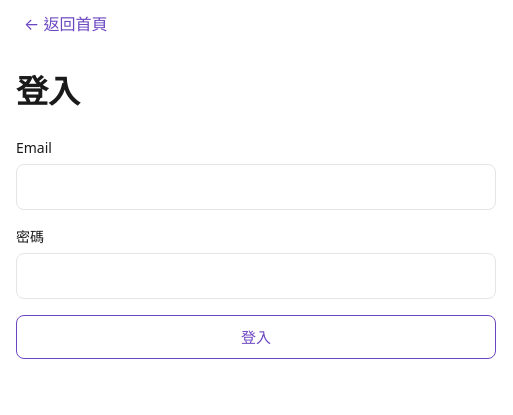
Test: LoginPage (Supabase not configured) › shows a clear message instead of crashing on submit
Step 1. Type "a@b.com" into the field labelled "Email" → (256, 187), box [16,164,496,210]
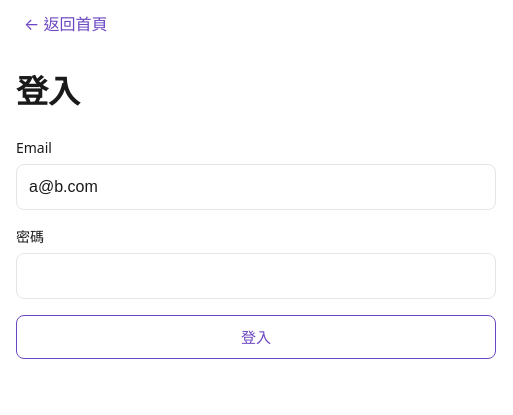
Step 2. Type "x" into the password field labelled "密碼" → (256, 276), box [16,253,496,299]
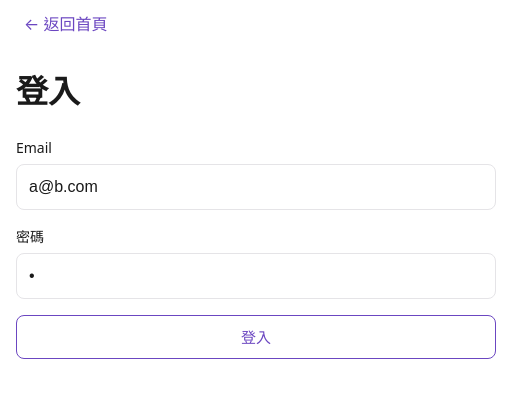
Step 3. Click the button "登入" → (256, 337), box [16,315,496,359]
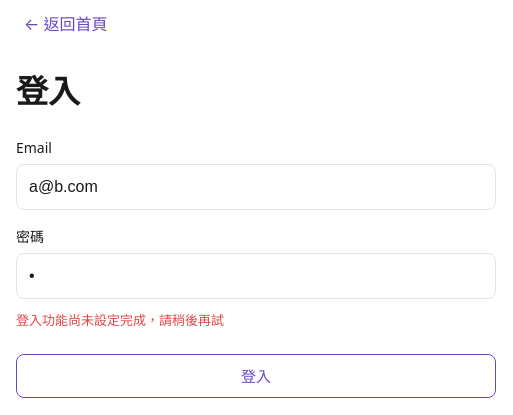
expect the text "登入功能尚未設定完成，請稍後再試" is shown: met, box [16,311,224,329]
